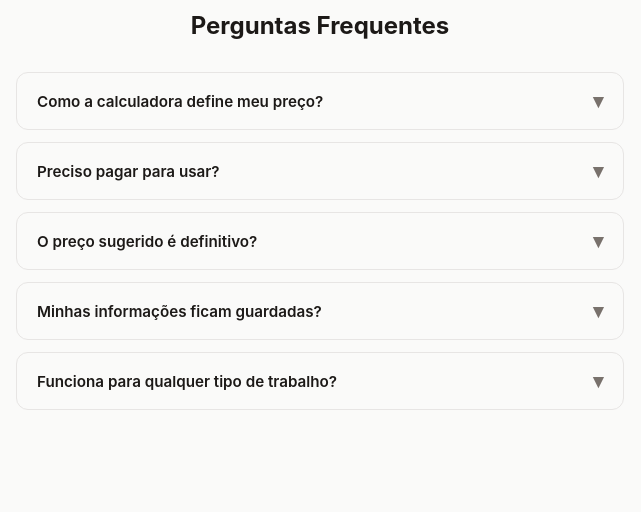
Scenario: FAQAccordion › clicking same question again closes it
Click the button "Como a calculadora define meu preço? ▾" at (320, 101), box left=17, top=73, right=623, bottom=129
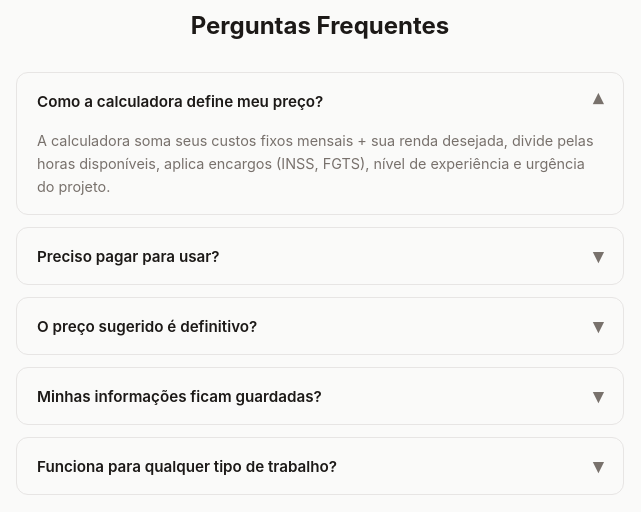
expect the number of elements with class "faq-answer" is 1: met, box left=17, top=129, right=623, bottom=214
Click the button "Como a calculadora define meu preço? ▾" at (320, 101), box left=17, top=73, right=623, bottom=129
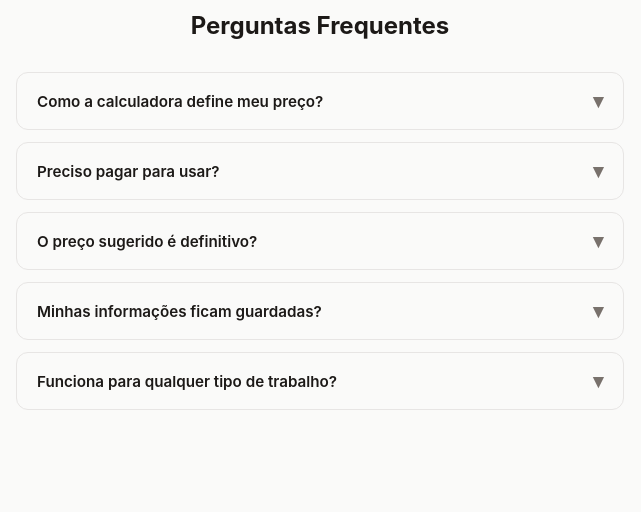
expect no elements with class "faq-answer" are shown: met
